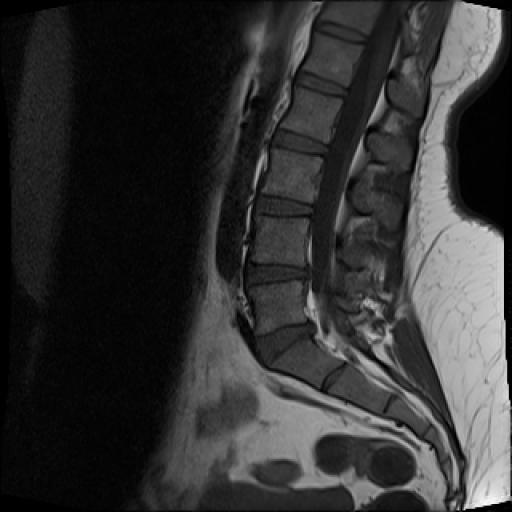L1: (302, 31, 363, 86)
L2: (280, 85, 342, 142)
L3: (261, 148, 323, 202)
L4: (250, 216, 309, 266)
L5: (248, 281, 307, 337)
S1: (267, 335, 345, 388)
